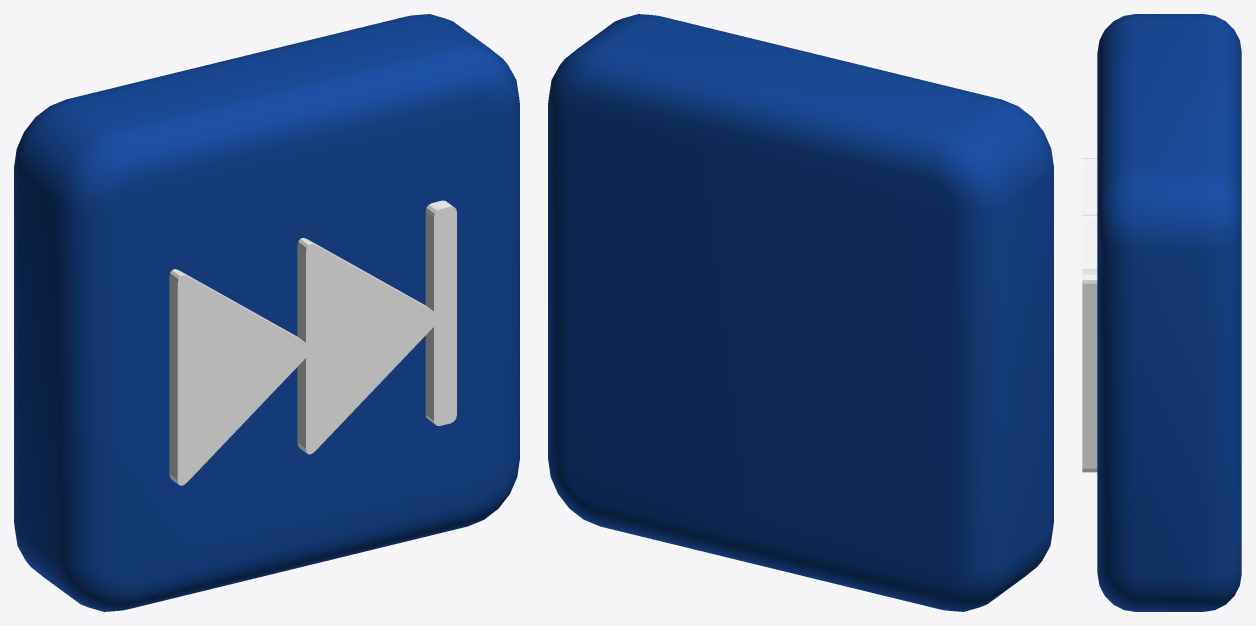
Rendered from next_track_button.gltf.
The picture shows the model from 3 angles, left to right: view 1: azimuth 30°, elevation 25°; view 2: azimuth 150°, elevation 25°; view 3: azimuth 270°, elevation 25°; orthographic projection. The views are drawn at different scales.
Parts seen in each view (by area): view 1: Cube.6421; view 2: Cube.6421; view 3: Cube.6421.
Boxes of the visible parts, x1,y1,x2,y2 form: Cube.6421: (14,14,519,611); Cube.6421: (548,14,1053,611); Cube.6421: (1082,14,1241,611).
Bounding box in the file's own units: 2.2 × 2.2 × 0.73.
1 material, 1 textured.
